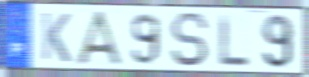9: (261, 12, 296, 71), (130, 12, 162, 66)
A: (74, 10, 128, 68)
K: (40, 11, 72, 65)
L: (217, 12, 251, 67)
S: (169, 11, 211, 69)
